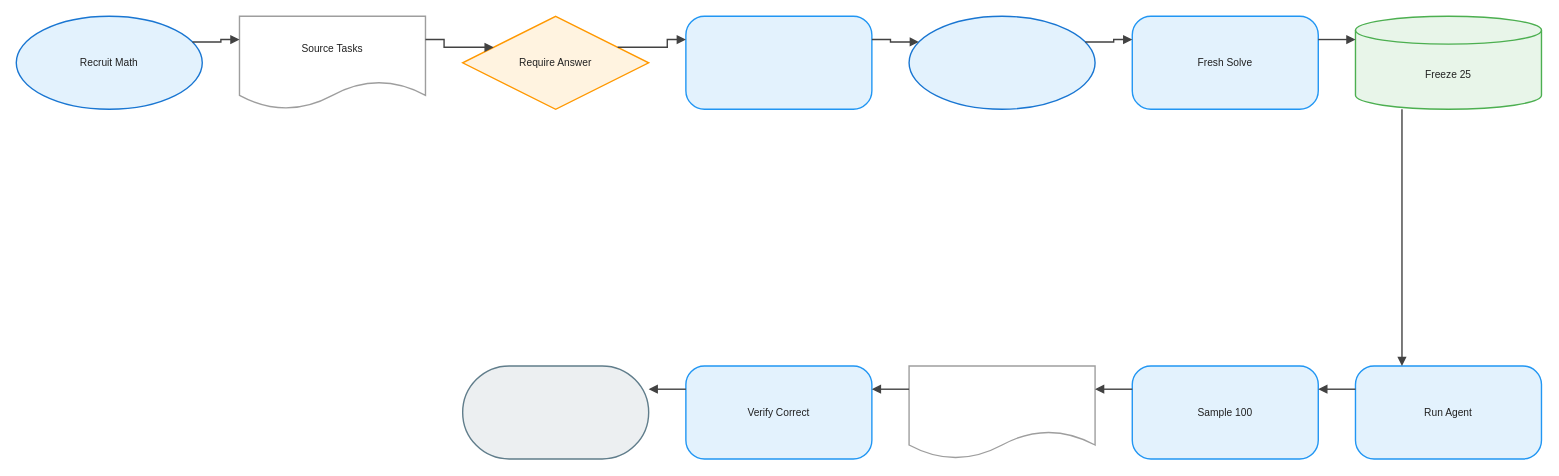
This 1559x476 diagram has some shape labels left out. Here are the shapes that lost their labels. From the top down, the centre of each, then its label:
(778,62): Build Checks
(1001,62): Blind Pair
(555,412): Report Pass@1
(1001,412): Extract Answer
